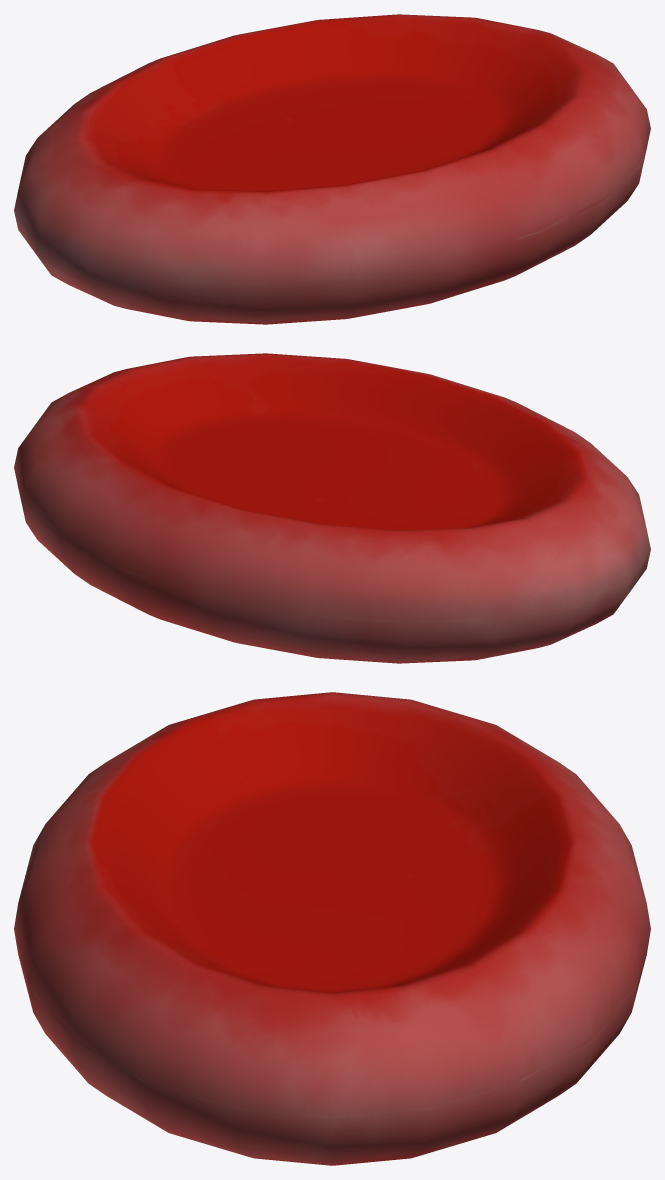
The model's file is Globulo_rojo.fbx.
3 renders of one model, top to bottom at view 1: azimuth 30°, elevation 25°; view 2: azimuth 150°, elevation 25°; view 3: azimuth 270°, elevation 25°, orthographic. The views are drawn at different scales.
Visible parts, largest first — view 1: Globulo_rojo; view 2: Globulo_rojo; view 3: Globulo_rojo.
Part boxes in pixels (<box>): Globulo_rojo: <box>14,14,650,324</box>; Globulo_rojo: <box>14,353,650,663</box>; Globulo_rojo: <box>14,692,650,1165</box>.
Bounding box in the file's own units: 2.25 × 0.4803 × 1.6.
1 material, 1 textured.
